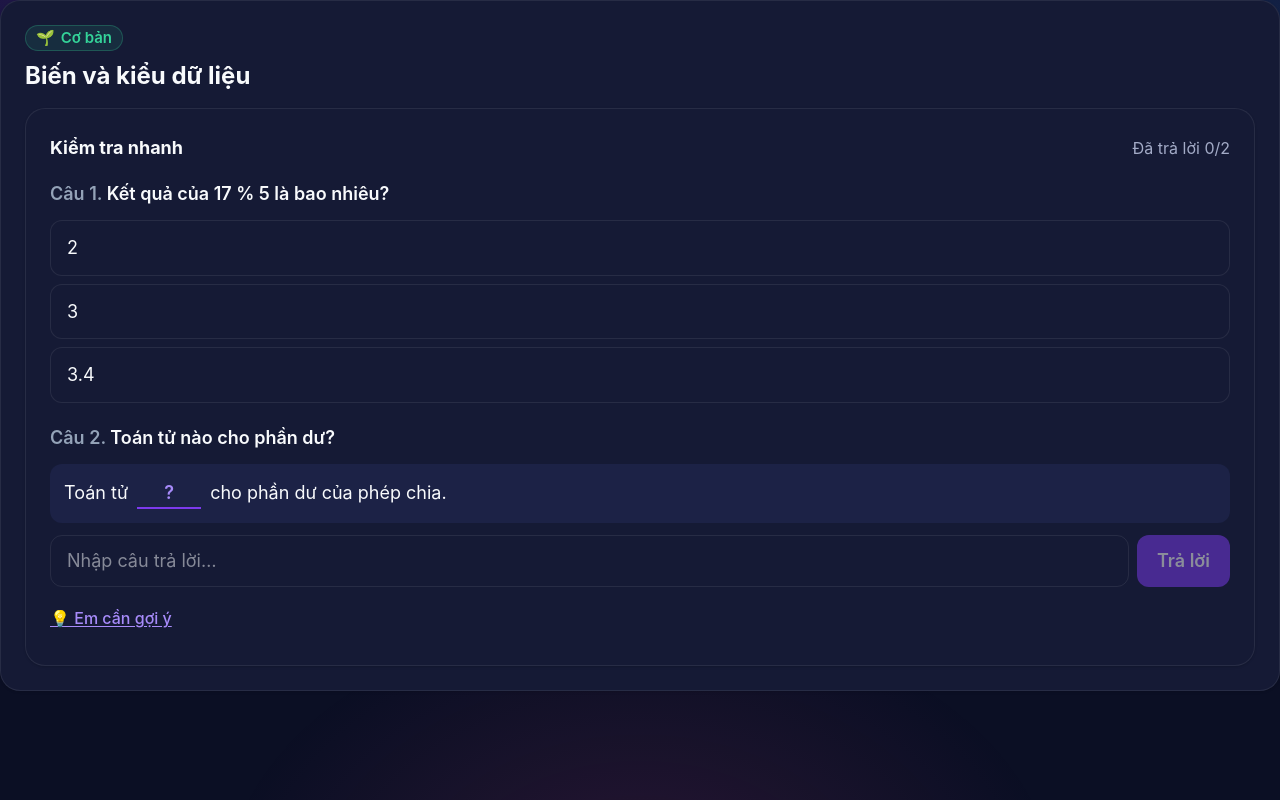
Scenario: Bài trắc nghiệm › đếm đúng số câu đã trả lời
The image size is (1280, 800).
Expected: the text "Đã trả lời 0/2" is shown, [1133,136,1230,162]
Click the button "2": {"x": 72, "y": 247} [50,220,1230,276]
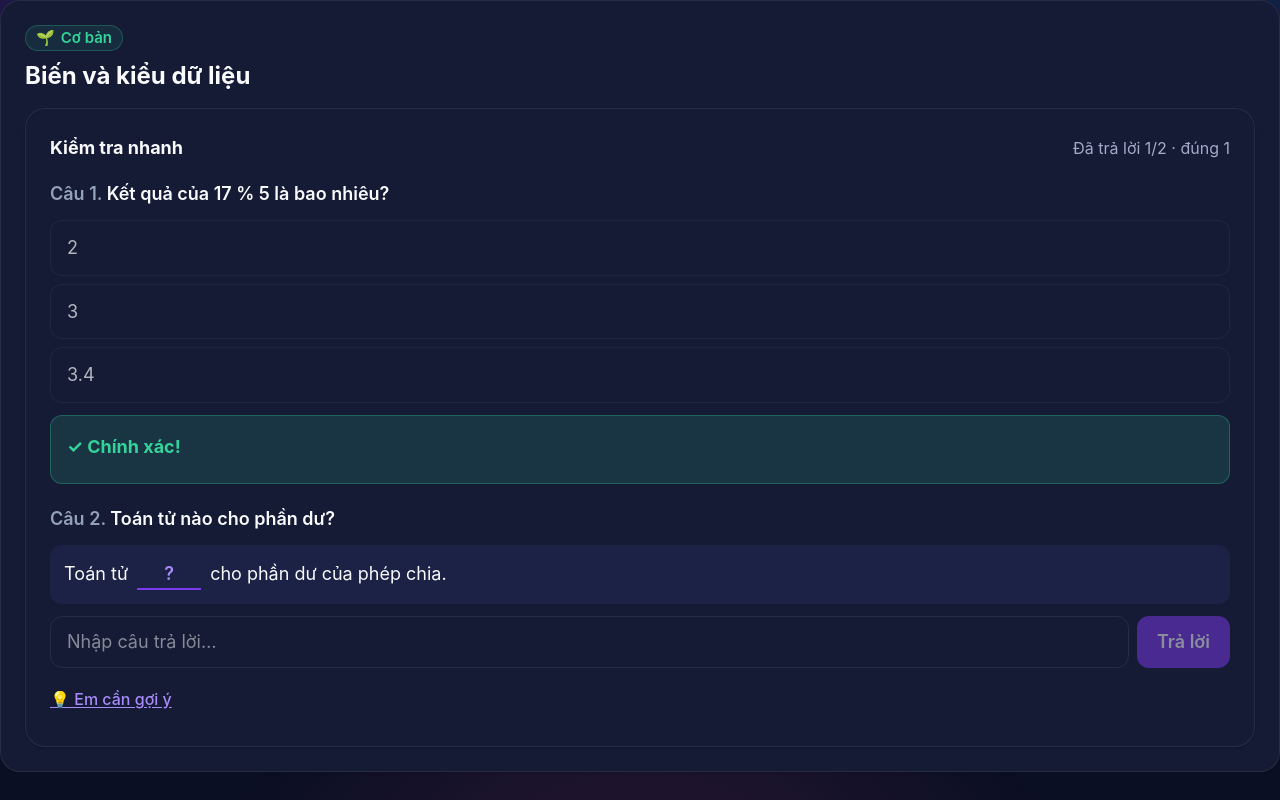
Now the text "Đã trả lời 1/2 · đúng 1" is shown, box [1073,136,1230,162]
